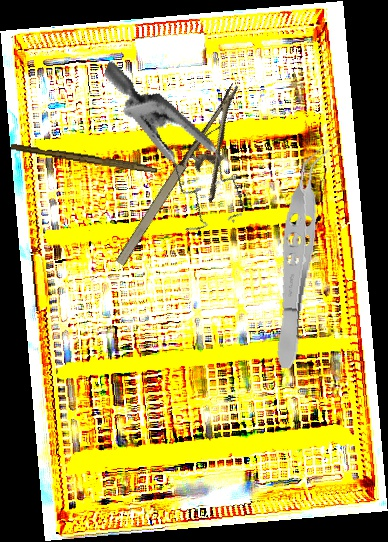Needle Holder: (110, 82, 275, 287)
Scalpel Handle: (10, 142, 158, 174)
Speculum: (62, 60, 277, 247)
Tissue Forceps: (267, 144, 332, 371)
